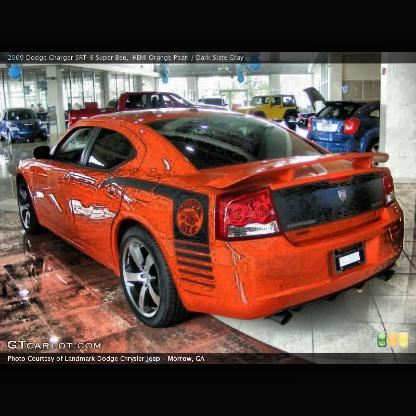Dodge Charger SRT-8 2009: (15, 108, 405, 331)
